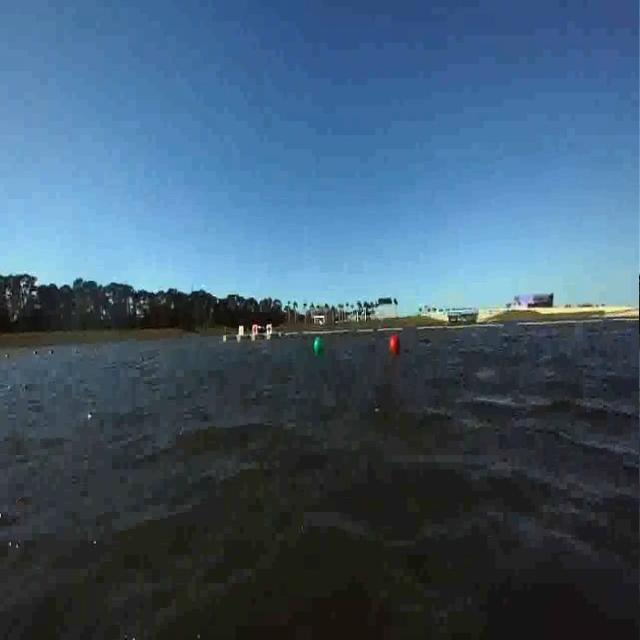green-buoy: (314, 339, 324, 354)
red-buoy: (390, 336, 400, 354)
